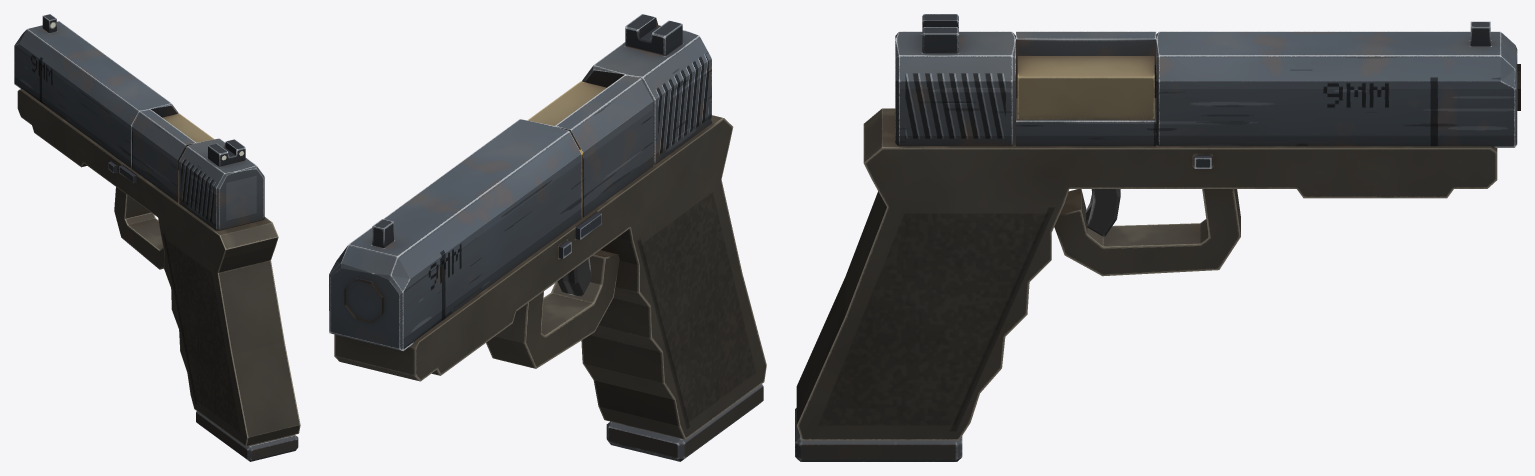
The model's file is Pistola9mm_Mundo.glb.
3 renders of one model, left to right at view 1: azimuth 30°, elevation 25°; view 2: azimuth 150°, elevation 25°; view 3: azimuth 270°, elevation 25°, orthographic. The views are drawn at different scales.
Parts seen in each view (by area): view 1: Handle, Corredera, Cargador; view 2: Handle, Corredera, Cargador, Gatillo; view 3: Handle, Corredera, Cargador, Gatillo.
Boxes of the visible parts, x1=… form: Handle: x1=17, y1=89, x2=300, y2=446; Corredera: x1=14, y1=14, x2=264, y2=230; Cargador: x1=196, y1=411, x2=298, y2=461; Handle: x1=334, y1=115, x2=766, y2=439; Corredera: x1=329, y1=14, x2=711, y2=350; Cargador: x1=606, y1=384, x2=763, y2=461; Gatillo: x1=557, y1=258, x2=591, y2=297; Handle: x1=796, y1=108, x2=1497, y2=440; Corredera: x1=895, y1=14, x2=1520, y2=147; Cargador: x1=795, y1=408, x2=962, y2=461; Gatillo: x1=1085, y1=189, x2=1120, y2=237.
Size of the model in its own units: 0.2508 by 1.12 by 1.75.
1 material, 1 textured.
